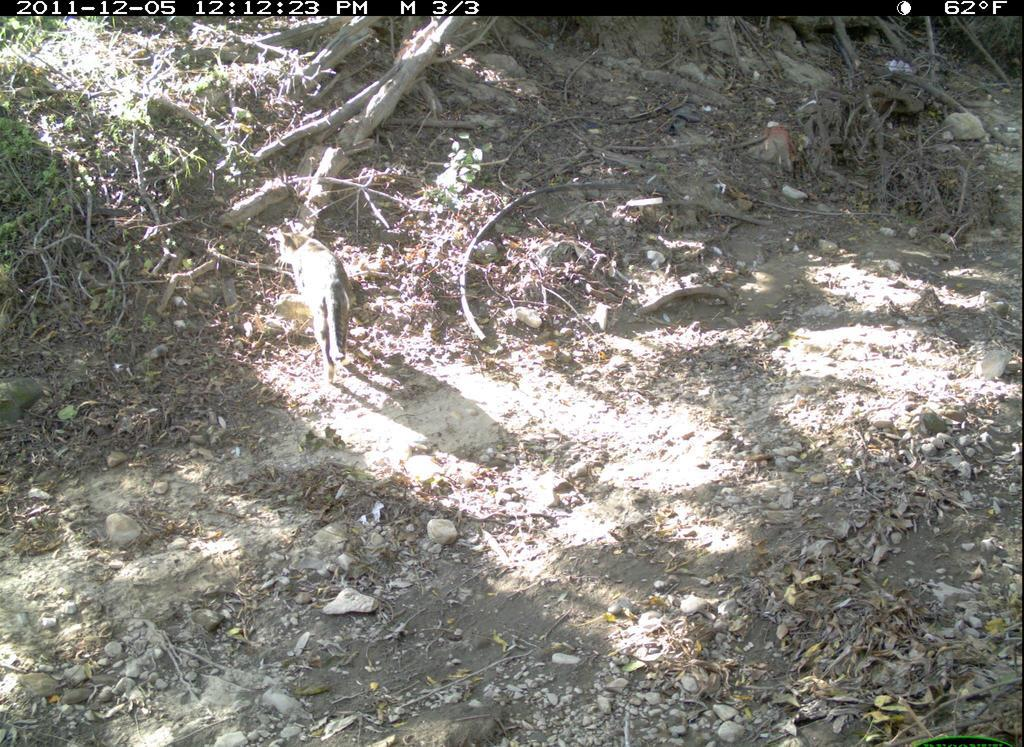cat: (269, 223, 368, 388)
